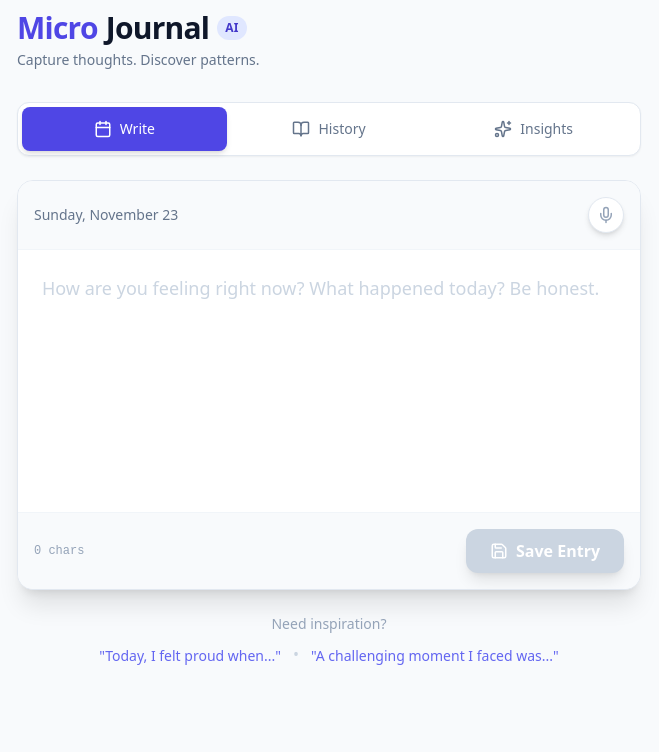
App › allows writing and saving a journal entry
Type "Today was a great day with lots of joy" into the text box with placeholder "How are you feeling right now?" at [329, 378], box [18,250,640,506]
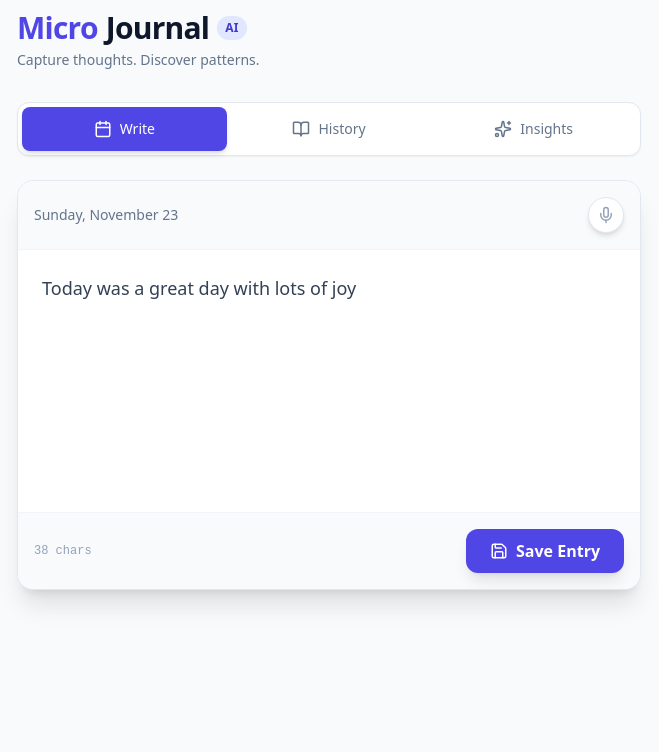
Click the button "Save Entry" at [545, 551], box [466,529,624,573]
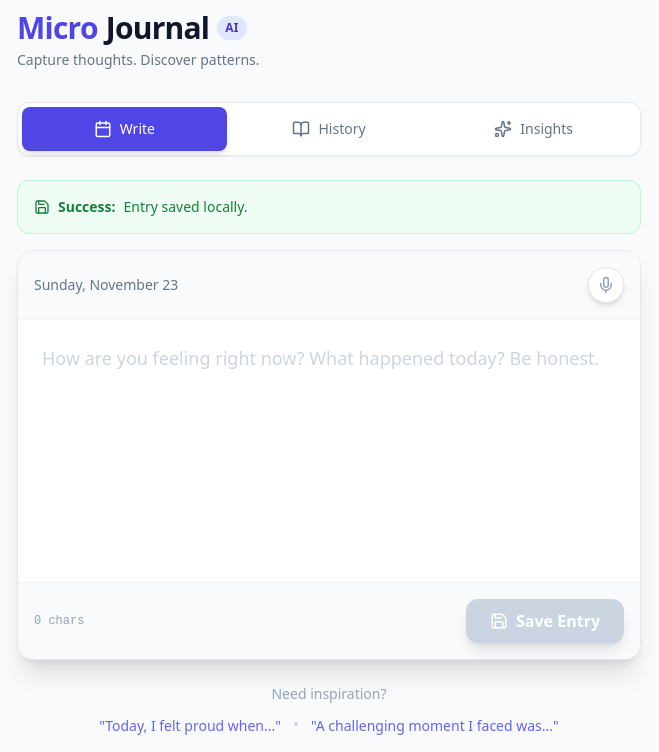
Expected: the text "Success: Entry saved locally." is shown, [17,180,641,234]
Click the button "History" at [329, 129], box [227,107,431,151]
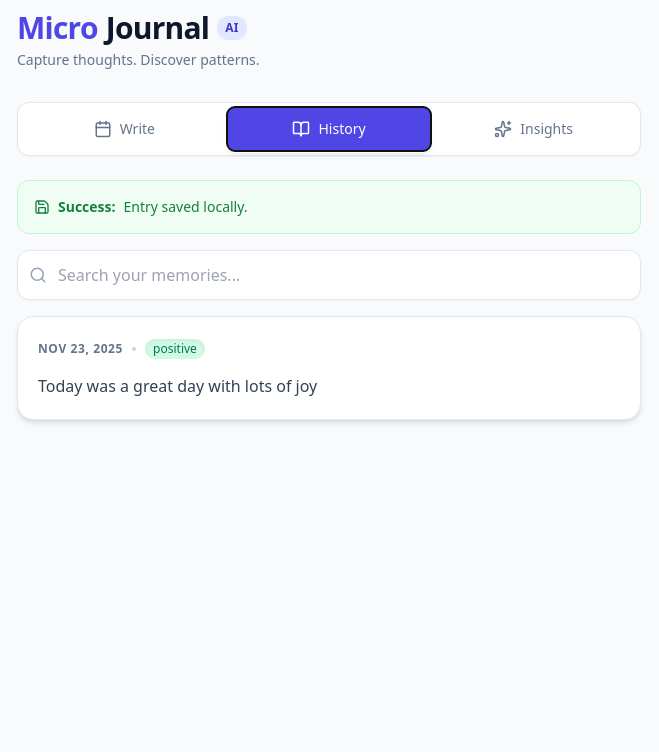
Expected: the text "Today was a great day with lots of joy" is shown, [38,375,317,397]
